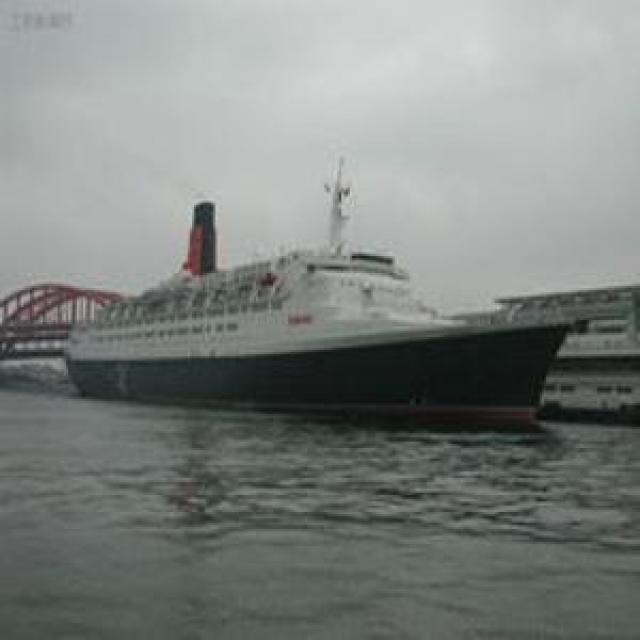passenger ship: (58, 155, 567, 424)
